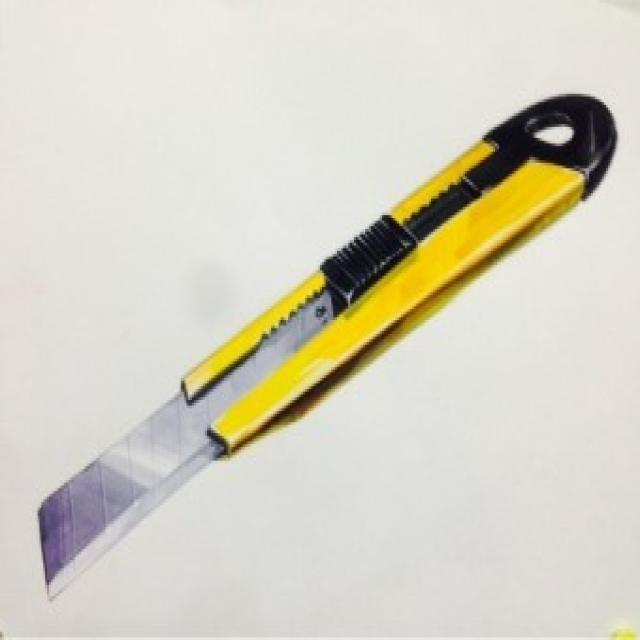cutter: (31, 90, 626, 607)
